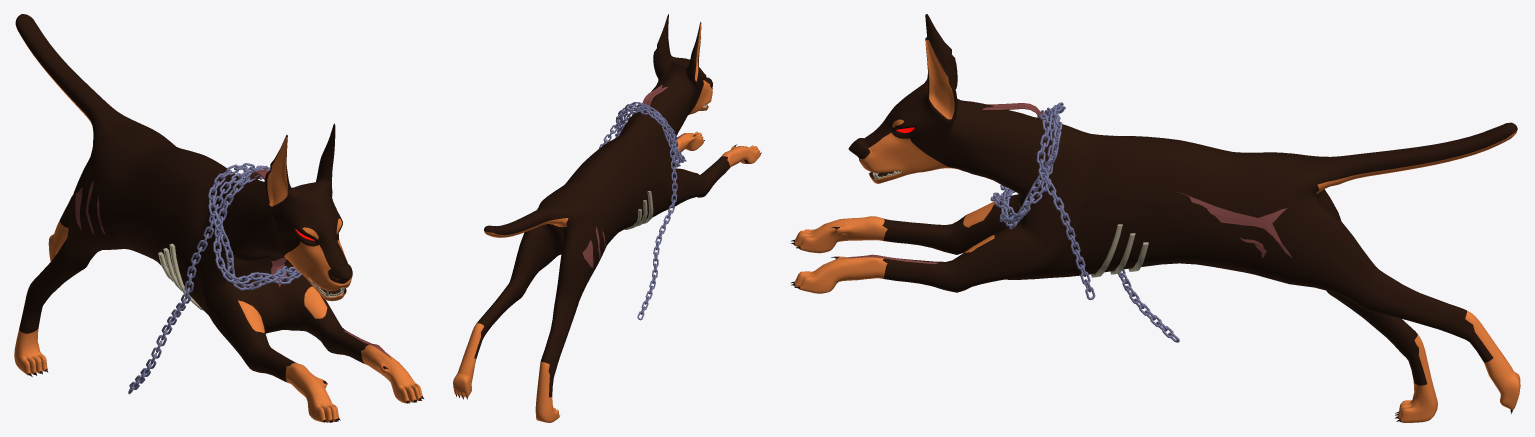
Rendered from per_perro.glb.
3 renders of one model, left to right at view 1: azimuth 30°, elevation 25°; view 2: azimuth 150°, elevation 25°; view 3: azimuth 270°, elevation 25°, orthographic. The views are drawn at different scales.
Parts seen in each view (by area): view 1: perro vivo, chain, heridas, costillas; view 2: perro vivo, chain, costillas, heridas; view 3: perro vivo, chain, heridas, costillas.
Part boxes in pixels (x1=…): perro vivo: x1=14, y1=14, x2=423, y2=422; chain: x1=128, y1=163, x2=301, y2=394; heridas: x1=75, y1=181, x2=391, y2=359; costillas: x1=158, y1=243, x2=203, y2=310; perro vivo: x1=453, y1=14, x2=761, y2=422; chain: x1=599, y1=102, x2=686, y2=320; costillas: x1=624, y1=191, x2=653, y2=229; heridas: x1=582, y1=133, x2=684, y2=267; perro vivo: x1=790, y1=14, x2=1520, y2=422; chain: x1=990, y1=102, x2=1179, y2=342; heridas: x1=841, y1=192, x2=1292, y2=264; costillas: x1=1090, y1=224, x2=1148, y2=277.
Bounding box in the file's own units: 0.4322 × 1.37 × 2.2.
